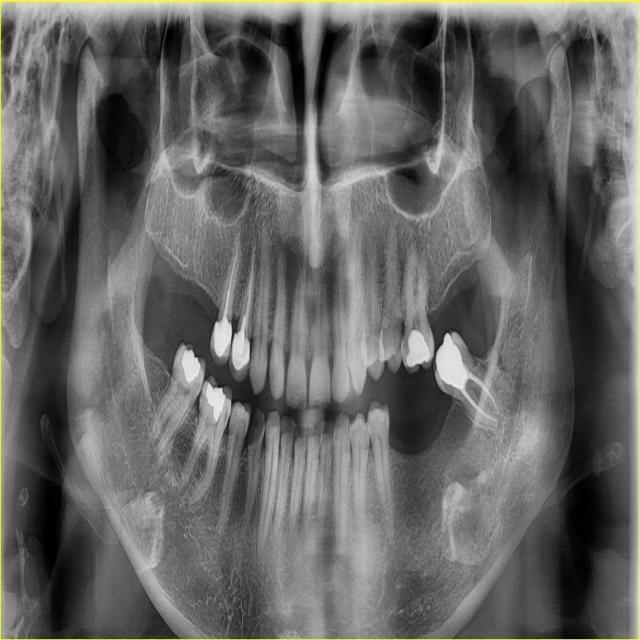Caries: (248, 408, 266, 444), (397, 322, 403, 336)
Crown: (209, 318, 231, 367), (229, 332, 249, 380)
Filling: (435, 334, 467, 389), (407, 330, 430, 368), (206, 382, 225, 422), (181, 350, 201, 382)
Missing teeth: (151, 262, 220, 350), (389, 365, 456, 454), (426, 281, 468, 342)
Root Canal Treatment: (465, 364, 498, 411), (458, 384, 496, 420), (222, 246, 237, 318), (244, 247, 254, 335)
